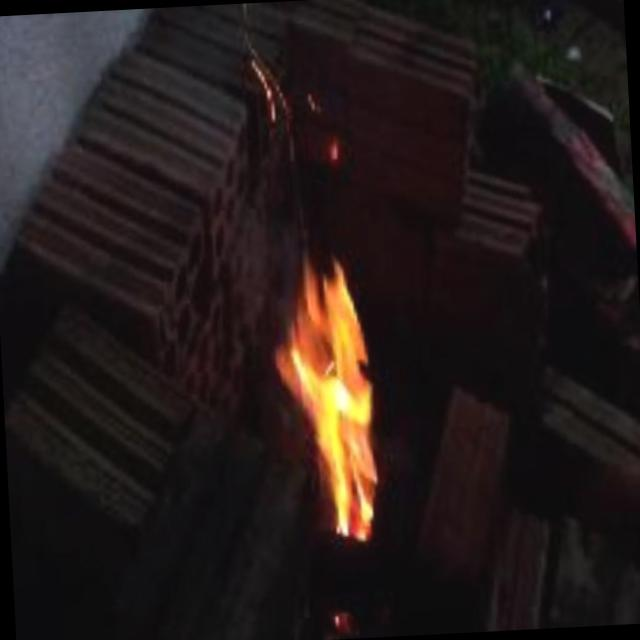fire: (222, 147, 435, 576)
